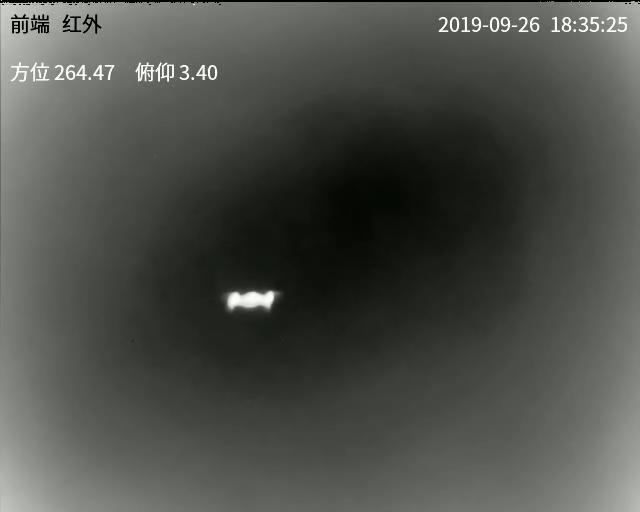uav: (219, 282, 282, 311)
